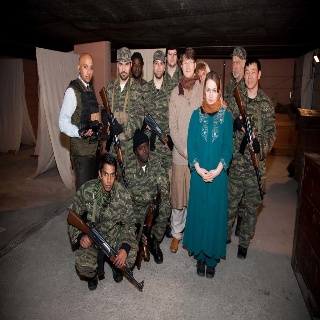rifle: (66, 208, 145, 293), (232, 83, 266, 197), (98, 86, 128, 185)
